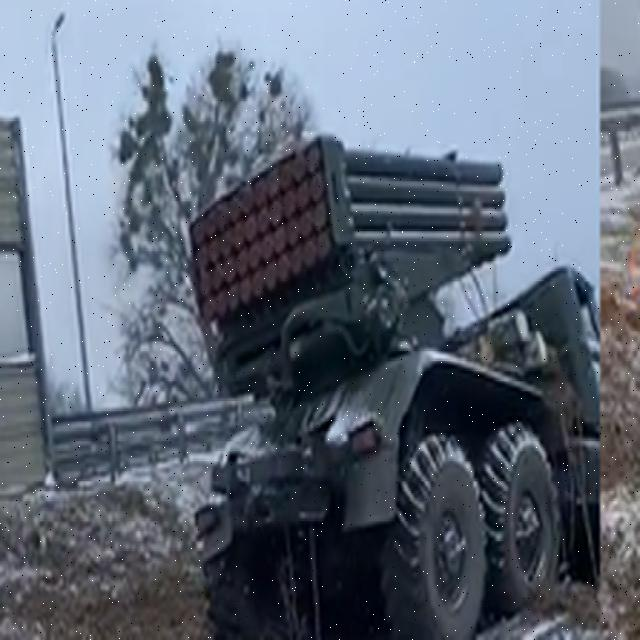MLRS: (184, 124, 598, 636)
